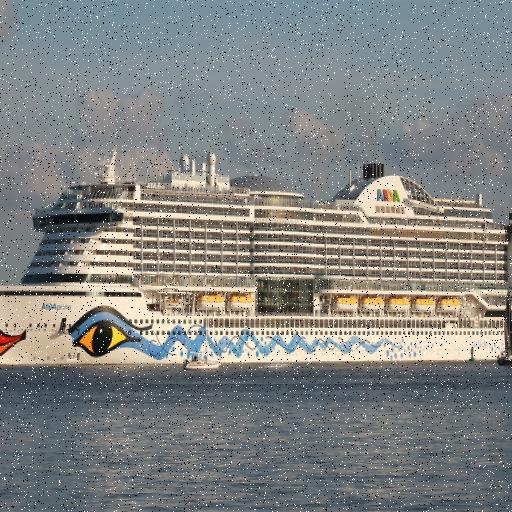cruises: (1, 137, 512, 371)
